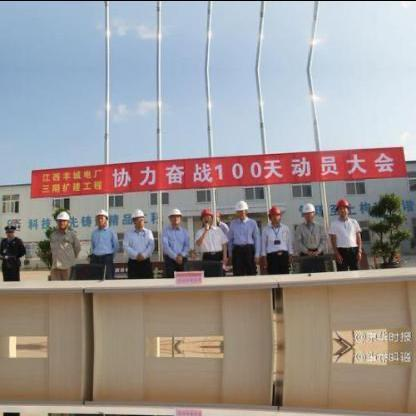Helmet: (161, 205, 182, 225), (331, 194, 349, 216), (128, 203, 144, 227), (198, 201, 214, 224), (264, 202, 282, 222), (53, 208, 69, 230), (92, 206, 108, 228), (230, 197, 247, 217), (300, 200, 316, 219)
